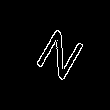N_SW: (25, 23, 85, 87)
